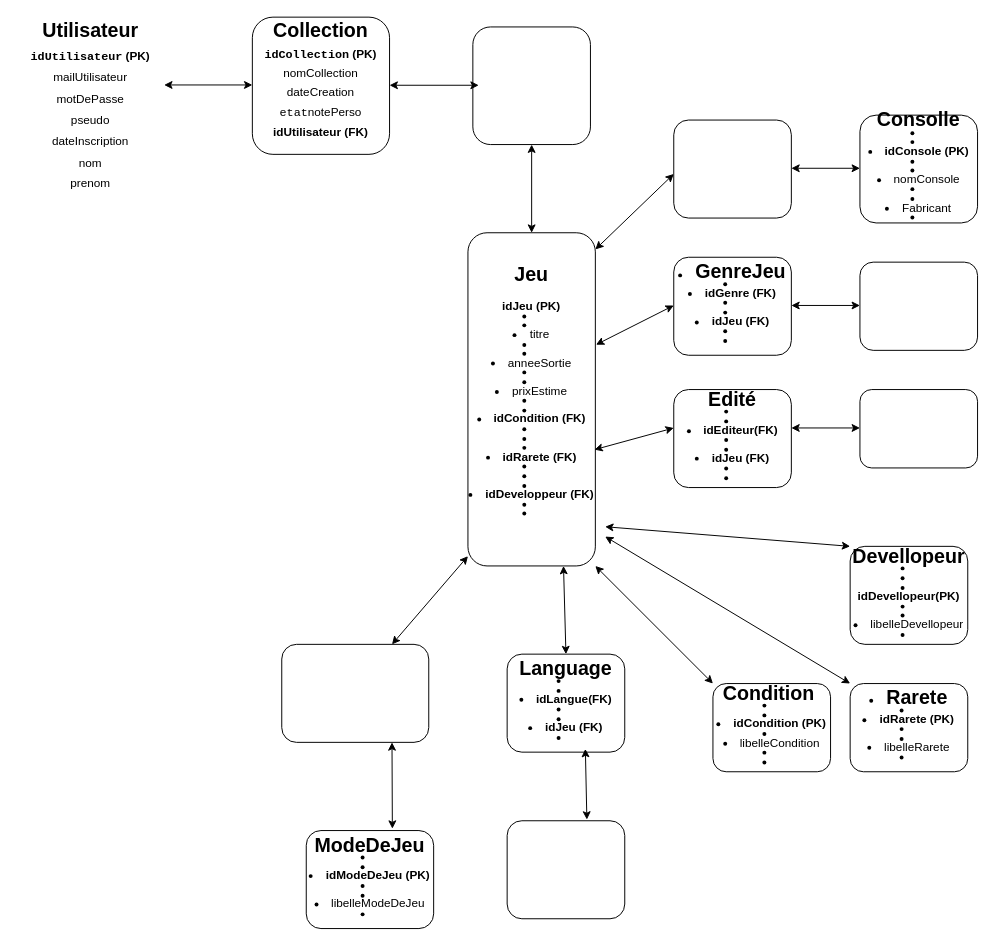
Some shapes in this 995 by 946 pixel diagram are drawn without their labels. The shapes that lost their labels are listed below. From the top down, each one's centre as x and y in pixels, then its label:
At [531,85]: "Appartient idCollection (FK) idJeu (FK) dateAjout".
At [732,168]: "disponible idConsolle (FK) idJeu (FK)".
At [918,305]: "Genre idGenre (PK) LibelleGenre".
At [918,428]: "Editeur idEditeur (PK) LibelleEditeur".
At [355,692]: "JeuModeDeJEu idLangue(FK) idJeu (FK)".
At [565,869]: "Langue idLangue(PK) libelleLangue".
